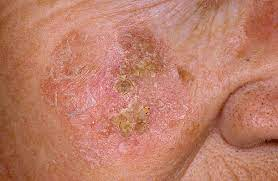Actinic Keratosis: (32, 18, 208, 161)
